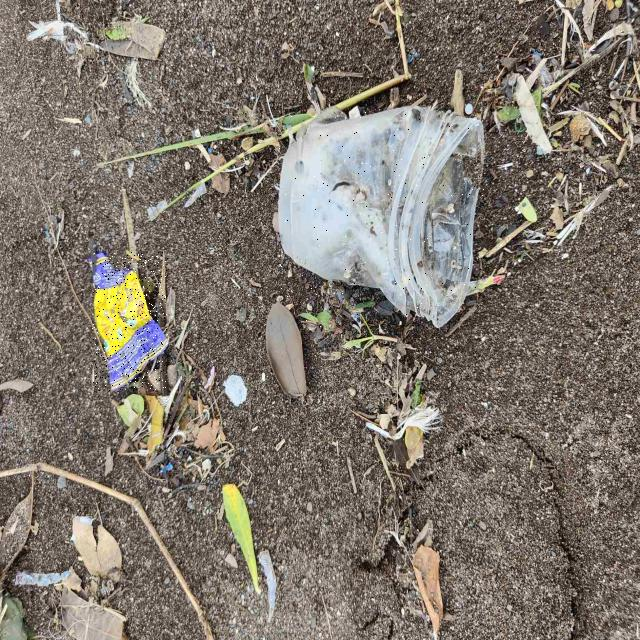plastic: (279, 106, 484, 327)
wrapper: (92, 252, 168, 390)
